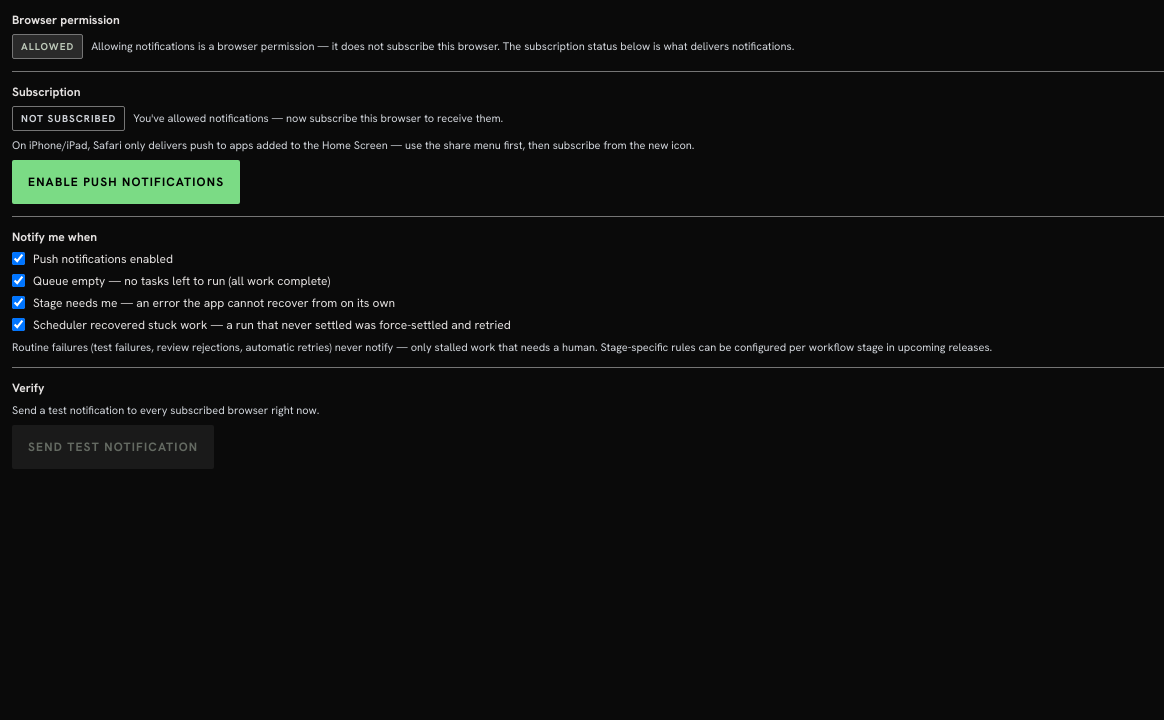
Scenario: subscribe button subscribes and confirms
Click the button "Enable push notifications". click: [126, 182]
box: [12, 160, 240, 204]
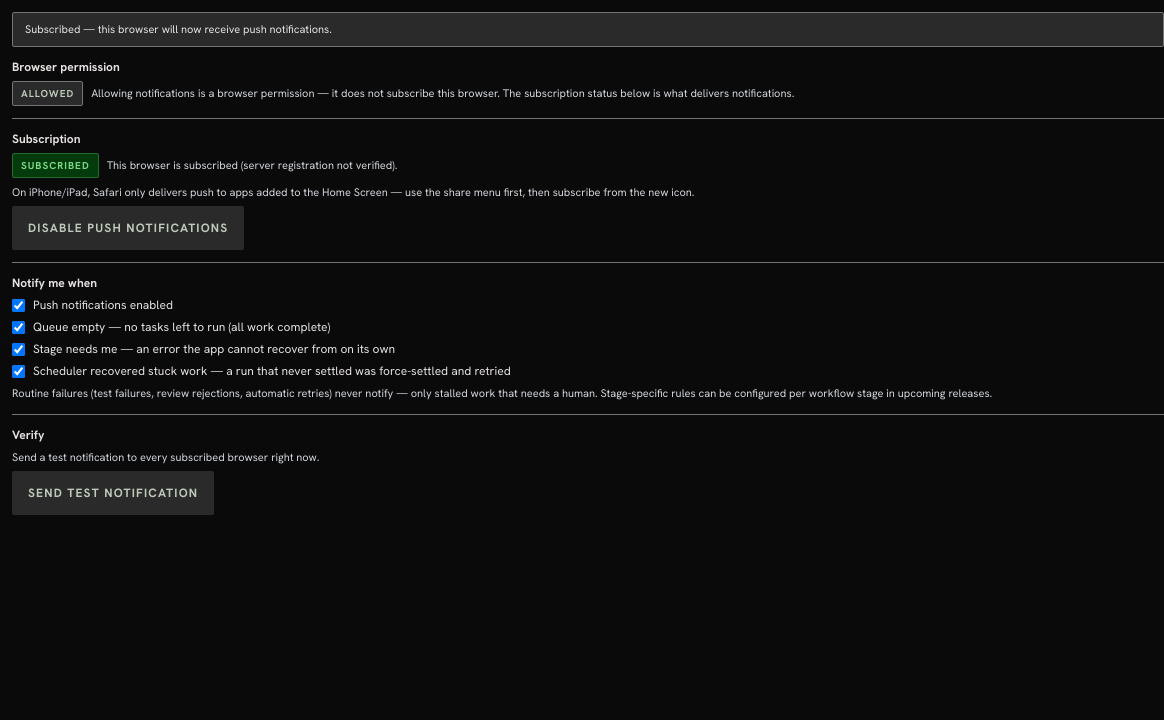
Now the text "Subscribed — this browser will now receive push notifications." is shown, box [12, 12, 1163, 46]
